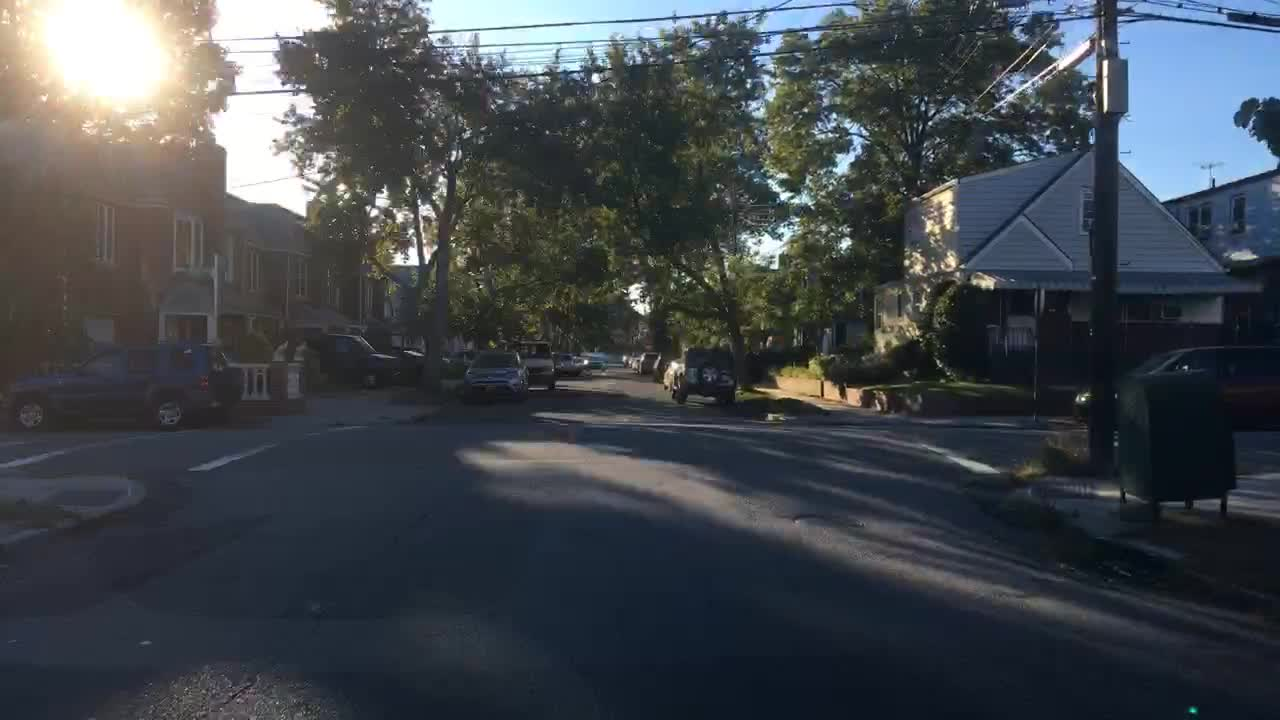car: (0, 338, 247, 432), (1072, 339, 1278, 433), (280, 328, 404, 387), (673, 347, 738, 409), (463, 348, 528, 399), (504, 338, 557, 391), (661, 350, 688, 393), (649, 346, 680, 383), (404, 347, 446, 367), (636, 347, 662, 376), (555, 351, 589, 373), (589, 351, 608, 375), (626, 352, 640, 371), (620, 350, 633, 368)
